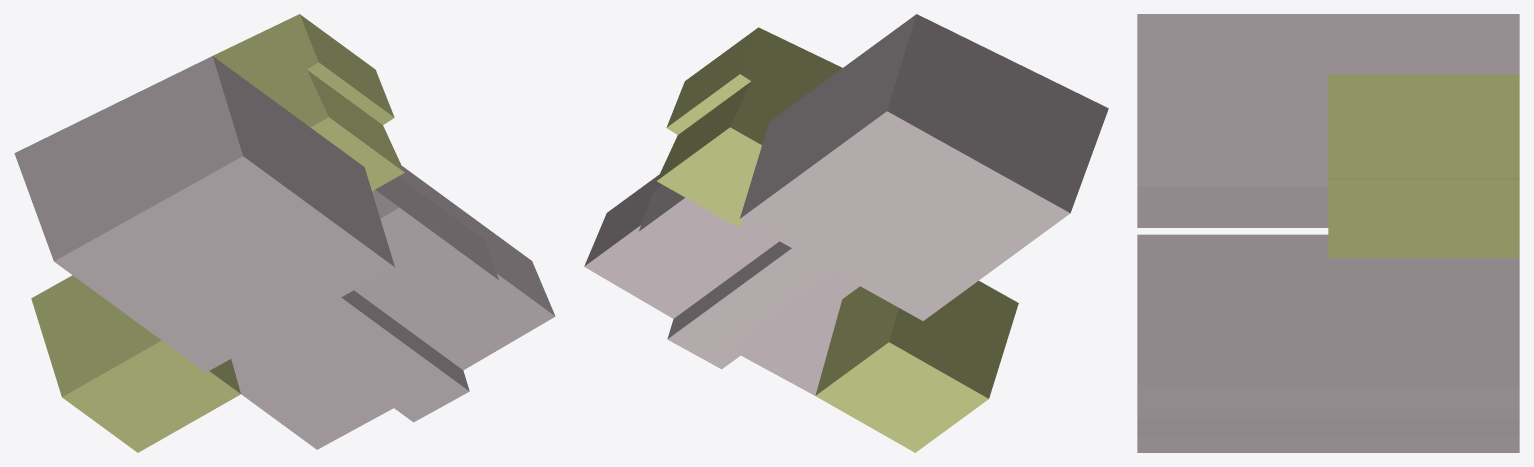
The picture shows the model from 3 angles, left to right: view 1: azimuth 30°, elevation 25°; view 2: azimuth 150°, elevation 25°; view 3: azimuth 270°, elevation 25°; orthographic projection. The views are drawn at different scales.
Visible parts, largest first — view 1: 0_3_1_3_0_0_3_0_1_3; view 2: 0_3_1_3_0_0_3_0_1_3; view 3: 0_3_1_3_0_0_3_0_1_3.
Boxes of the visible parts, <box> form: 0_3_1_3_0_0_3_0_1_3: <box>14,14,555,452</box>; 0_3_1_3_0_0_3_0_1_3: <box>584,14,1108,452</box>; 0_3_1_3_0_0_3_0_1_3: <box>1137,14,1519,452</box>.
Size of the model in its own units: 26.6 by 21.25 by 18.
